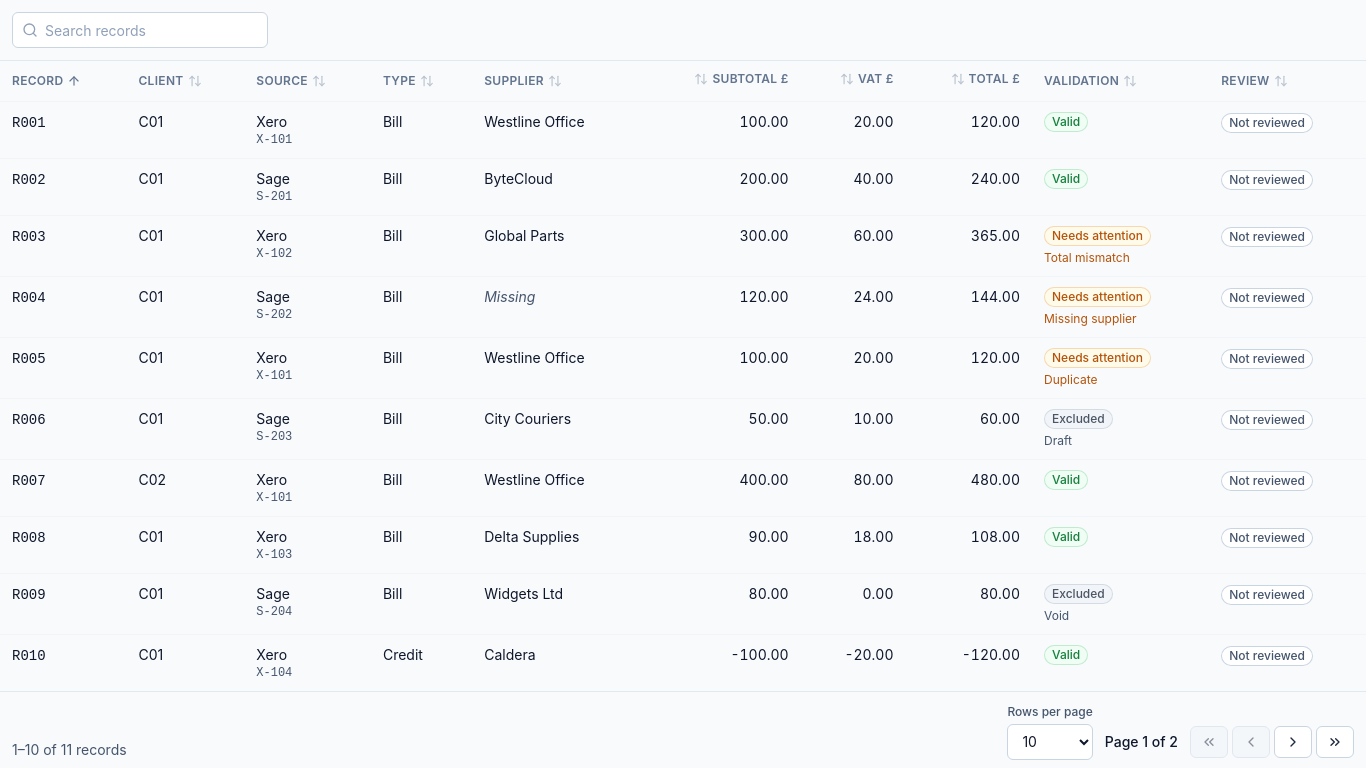
Scenario: DataTable (with transaction columns) › pages through rows
The width and height of the screenshot is (1366, 768).
Check: the text "1–10 of 11 records" is shown, box [12,740,127,760]
Click the button named "Next page": (1293, 742) [1274,726,1312,758]
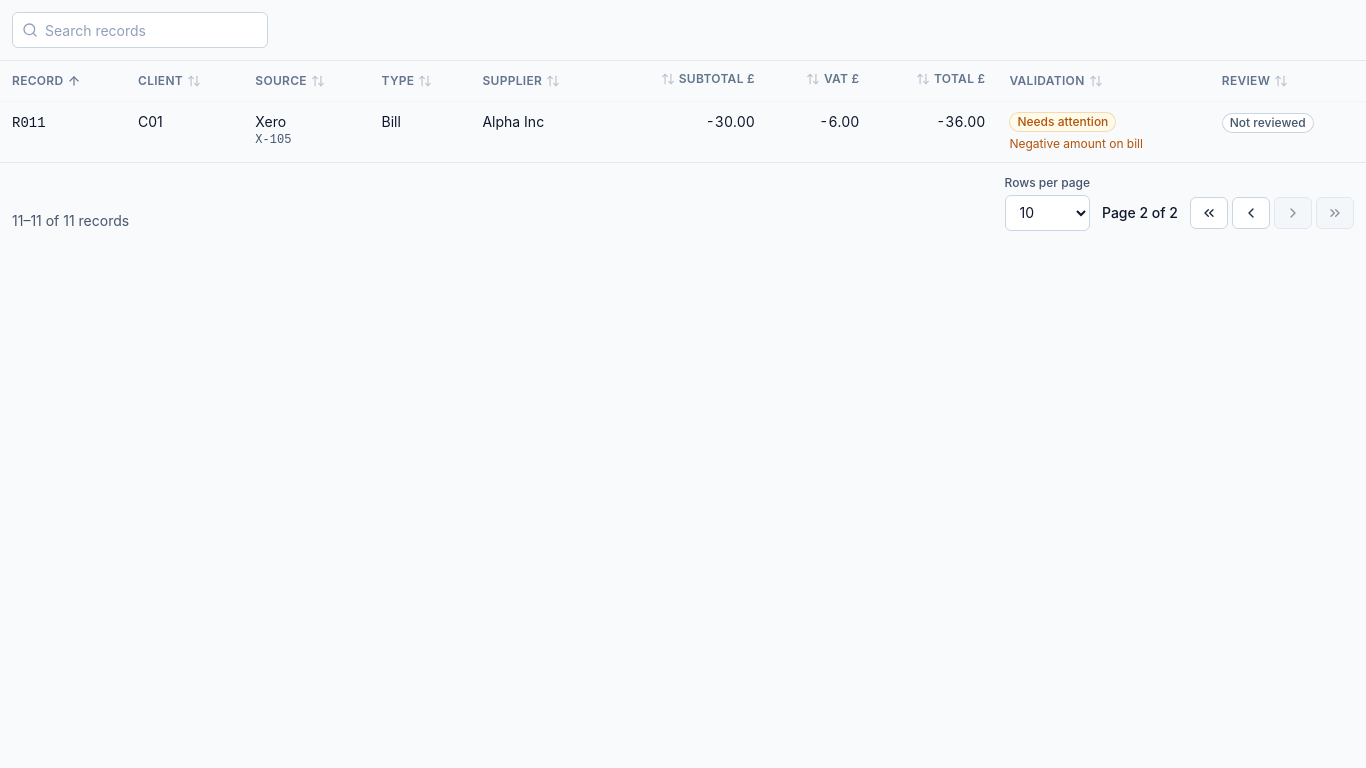
Check: the button named "Next page" is disabled, box [1274,196,1312,228]
Check: the text "Page 2 of 2" is shown, box [1102,202,1178,230]
